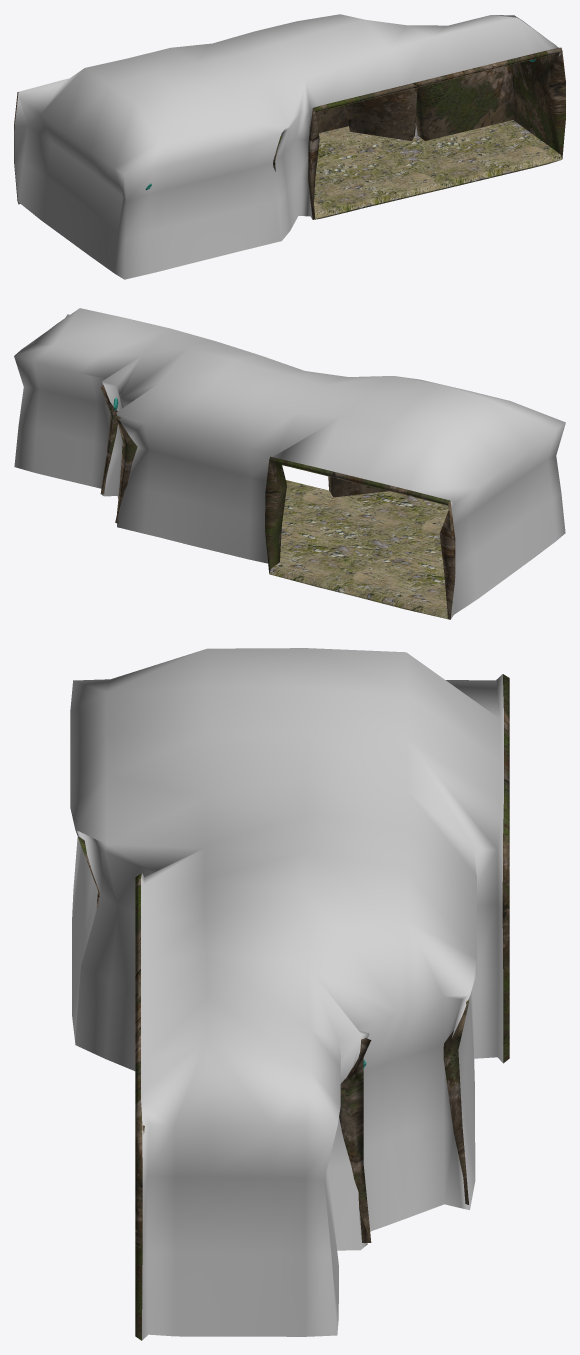
File: passage_nursery_north.obj
3 renders of one model, top to bottom at view 1: azimuth 30°, elevation 25°; view 2: azimuth 150°, elevation 25°; view 3: azimuth 270°, elevation 25°, orthographic. The views are drawn at different scales.
Parts seen in each view (by area): view 1: Passage_nursery_north; view 2: Passage_nursery_north; view 3: Passage_nursery_north.
Part boxes in pixels (bbox=[...]): Passage_nursery_north: bbox=[14, 14, 565, 279]; Passage_nursery_north: bbox=[14, 308, 565, 619]; Passage_nursery_north: bbox=[70, 648, 509, 1340].
Bounding box in the file's own units: 1047 × 323 × 432.
